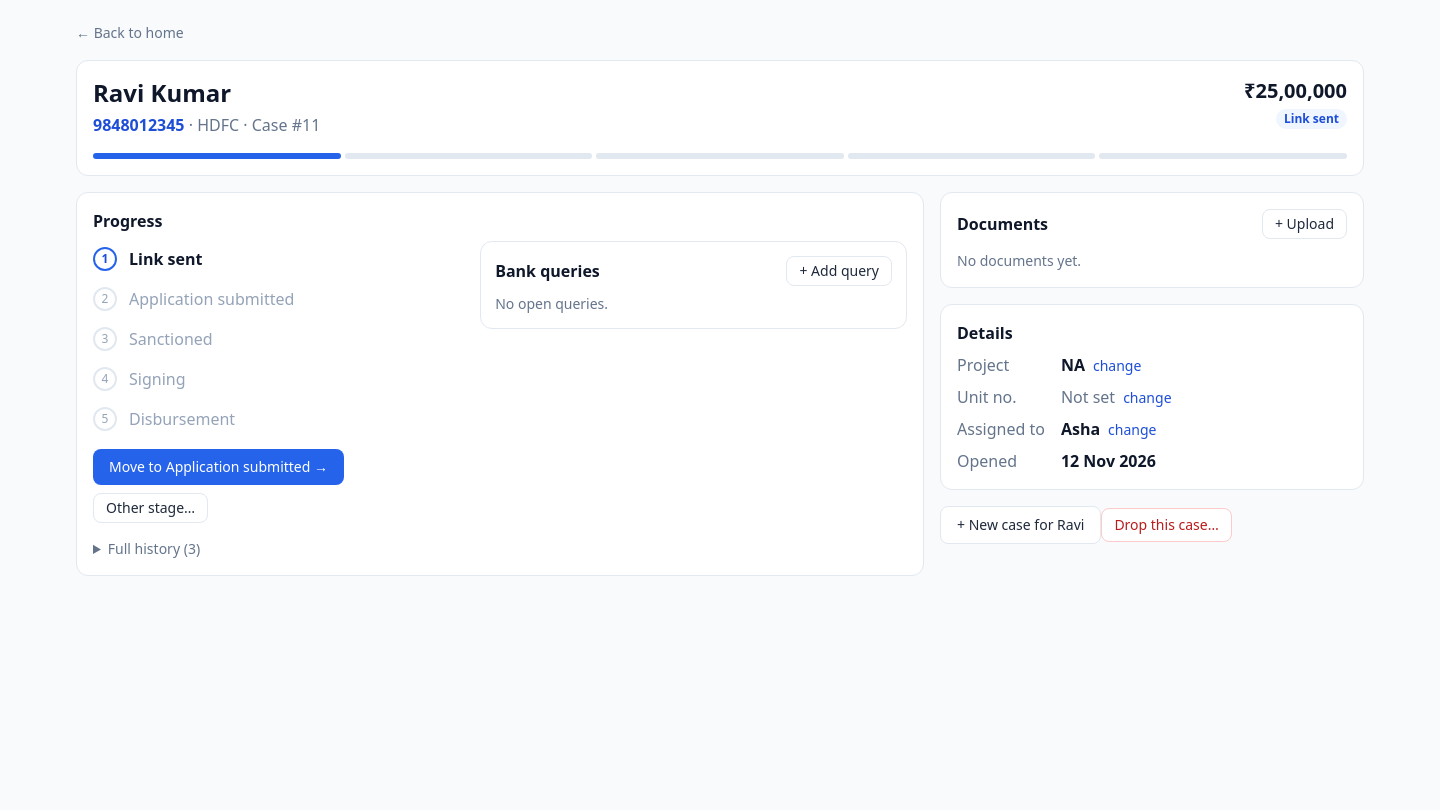
Scenario: CaseDetail › HDFC: Application submitted asks for the tracking number
Click the button "Move to Application submitted →" at (218,467), box x1=93 y1=449 x2=344 y2=485
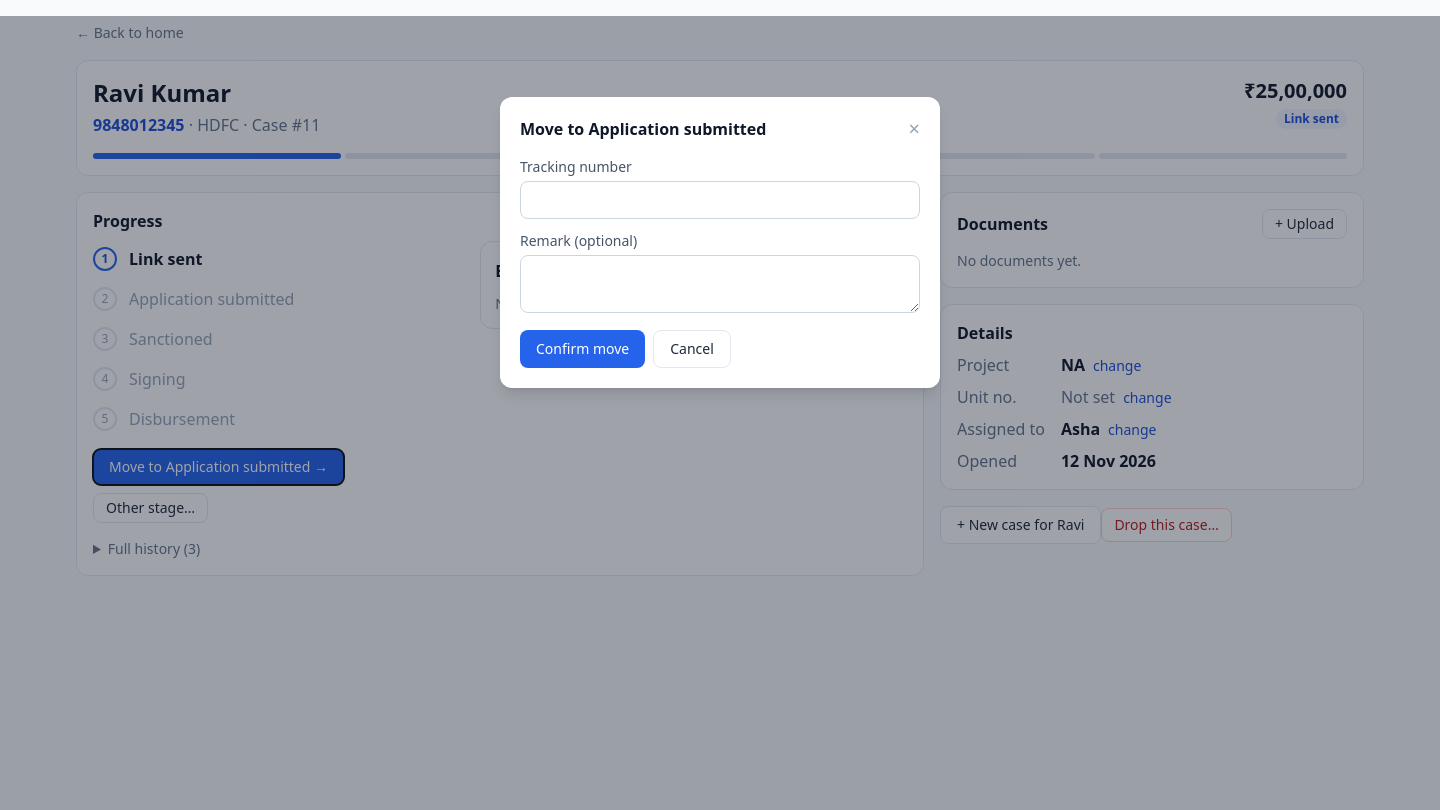
Expected: the field labelled "Tracking number" is shown, x1=520 y1=181 x2=920 y2=219
